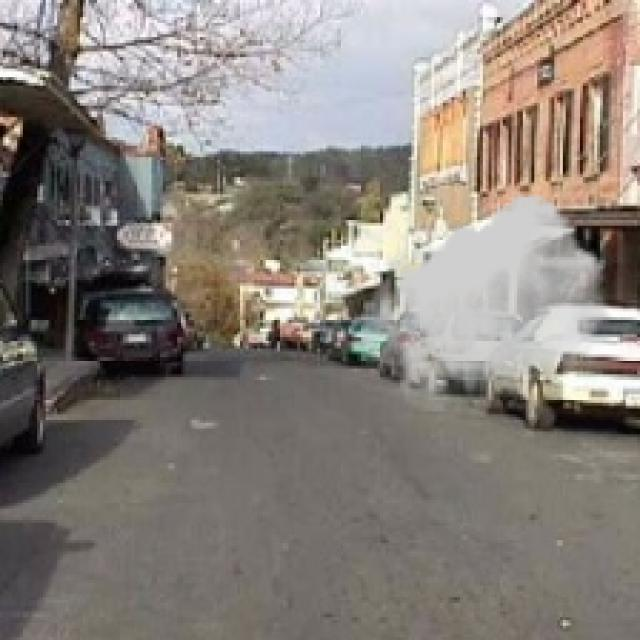smoke: (360, 195, 609, 412)
